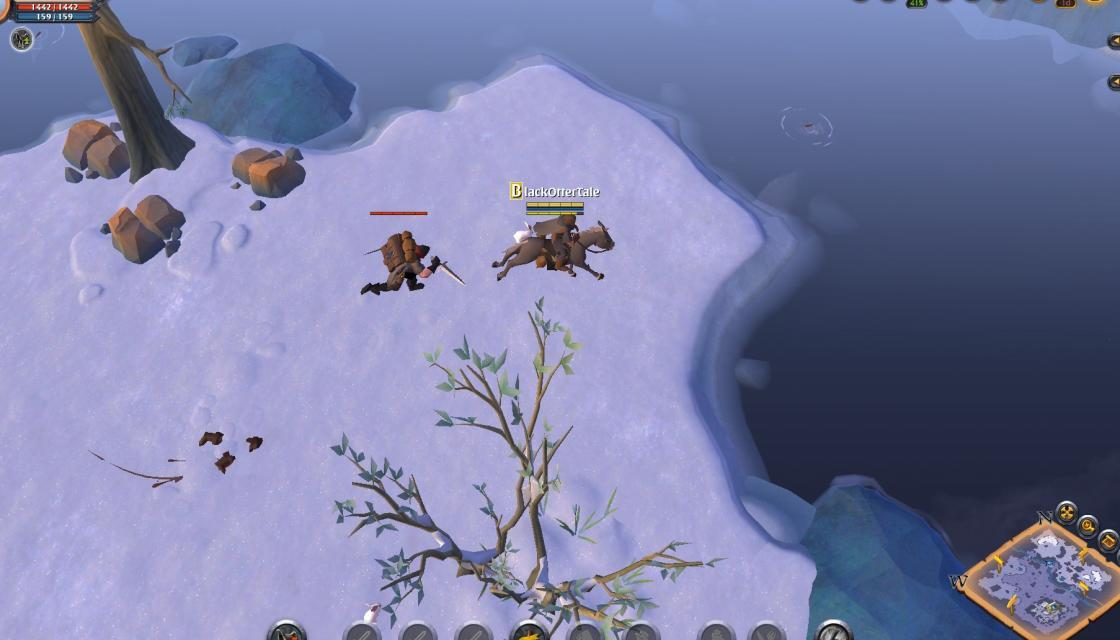limestone: (96, 190, 189, 263), (223, 140, 309, 200), (54, 120, 132, 186)
